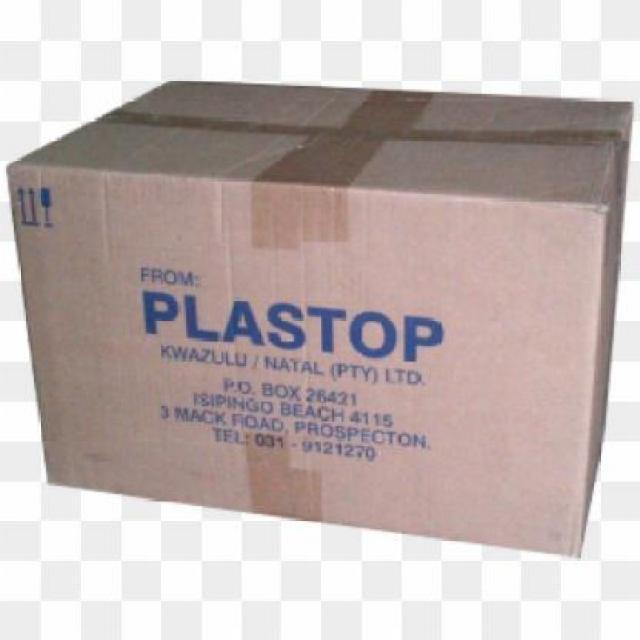box: (4, 73, 640, 562)
